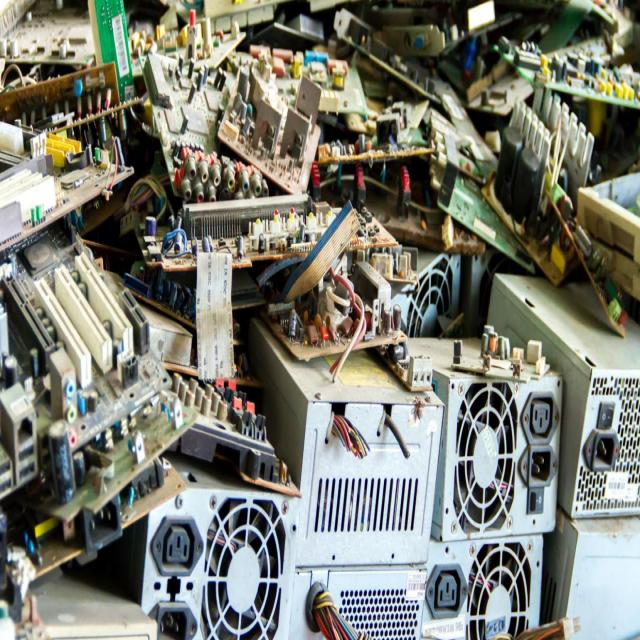hazard: (6, 19, 637, 629)
